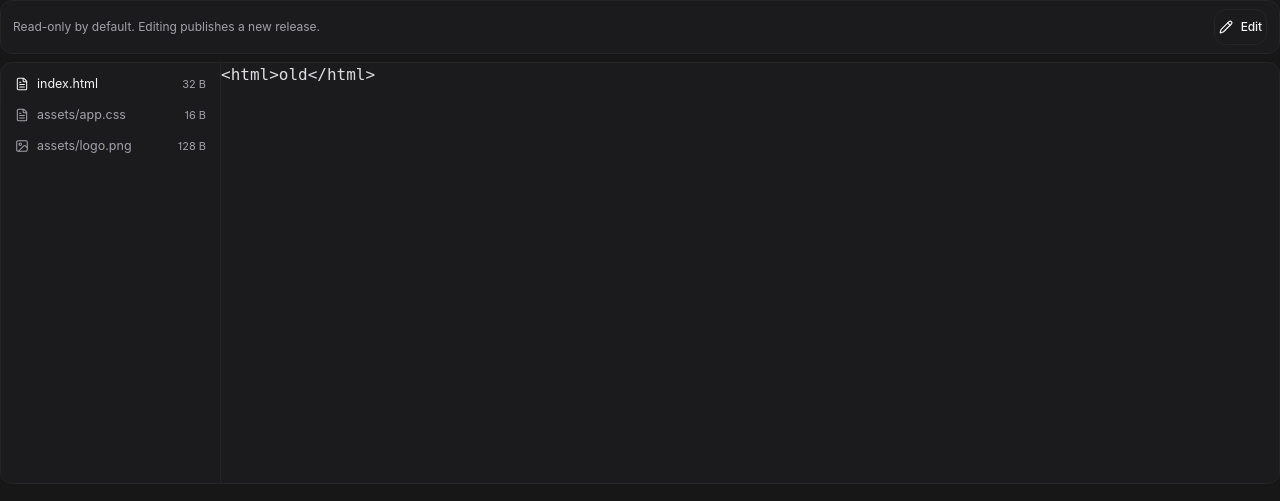
it: SiteSource › drops the draft when the edit is cancelled
Expected: the text "<html>old</html>" is shown, [221,65,375,84]
Click the button "Edit": (1240, 27) [1214,9,1267,45]
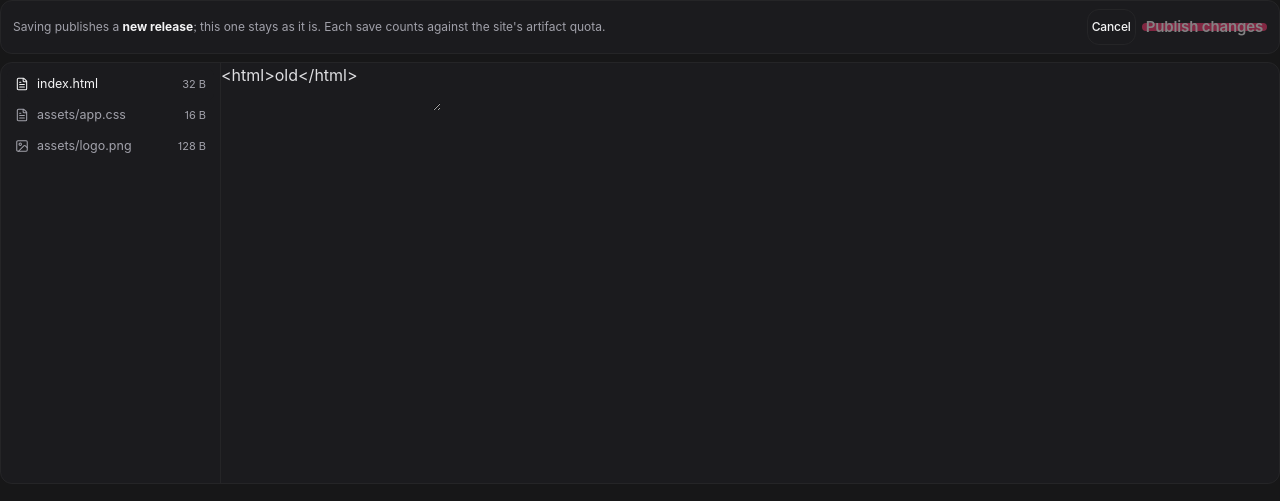
Replace the text in the text box with test id "code-editor" with "<html>scratch</html>": (331, 87) [221,63,441,111]
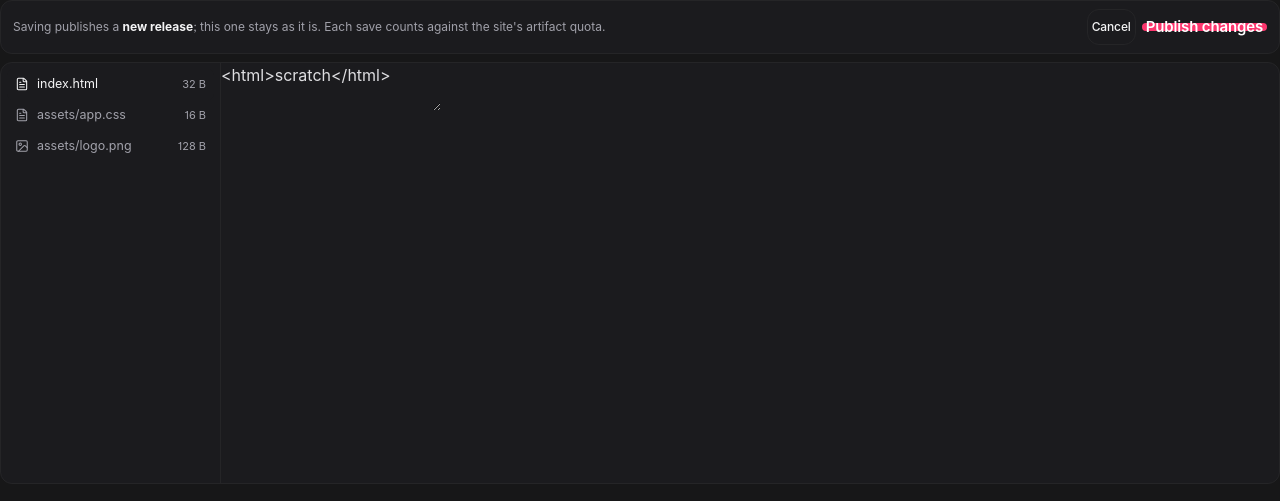
Click the button "Cancel": (1111, 27) [1087,9,1136,45]
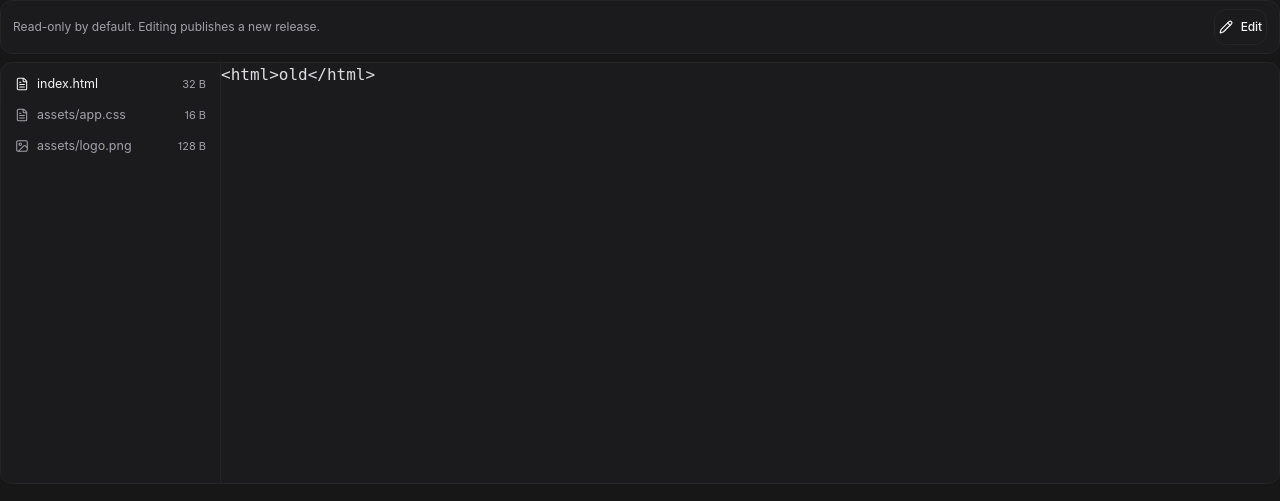
Now the text box with test id "code-editor" is gone
Now the text with test id "code-viewer" reads "<html>old</html>", box [221,65,375,84]
